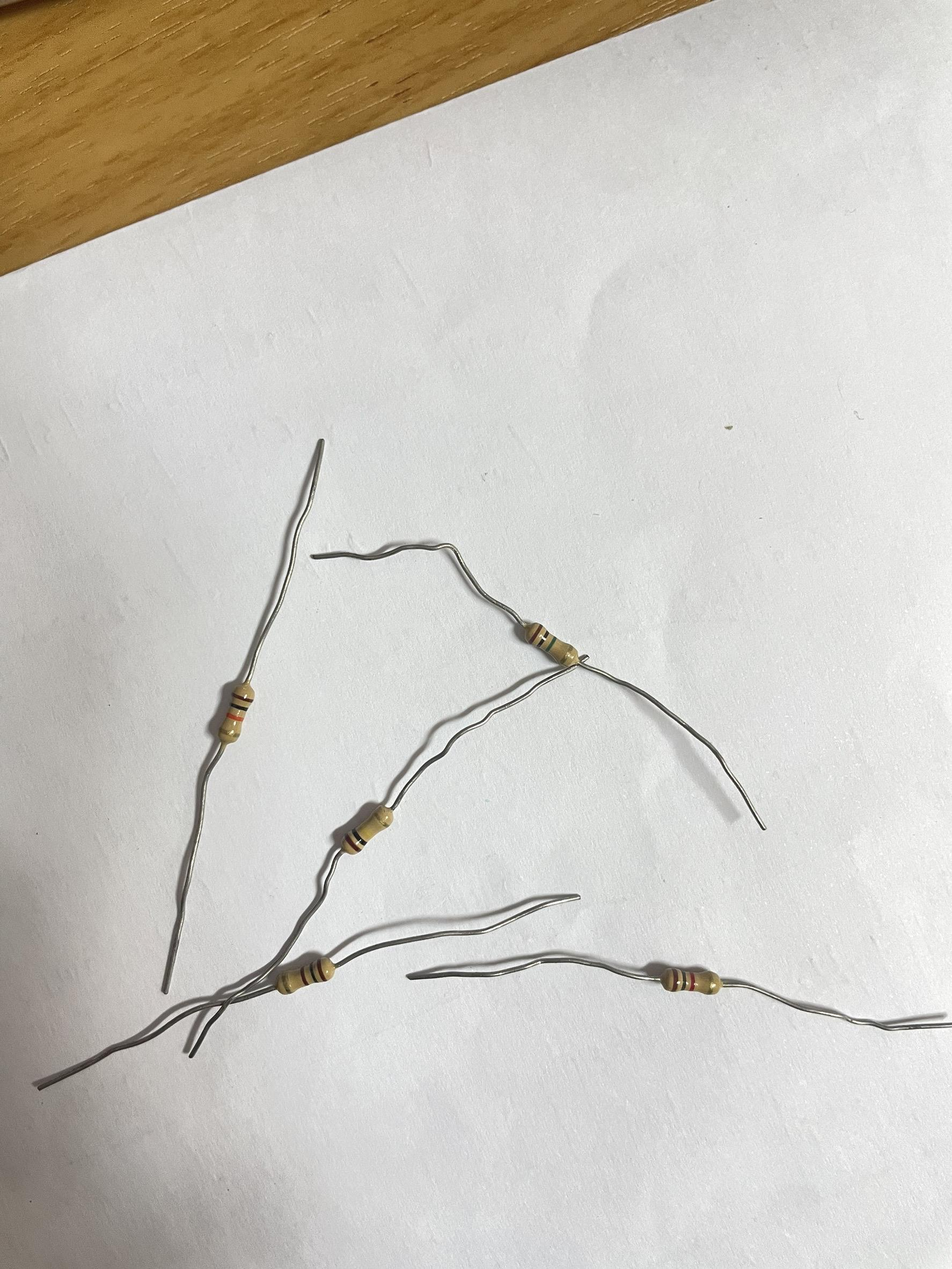resistor: (213, 677, 253, 751), (522, 619, 578, 668), (343, 806, 397, 854), (661, 965, 724, 994)
